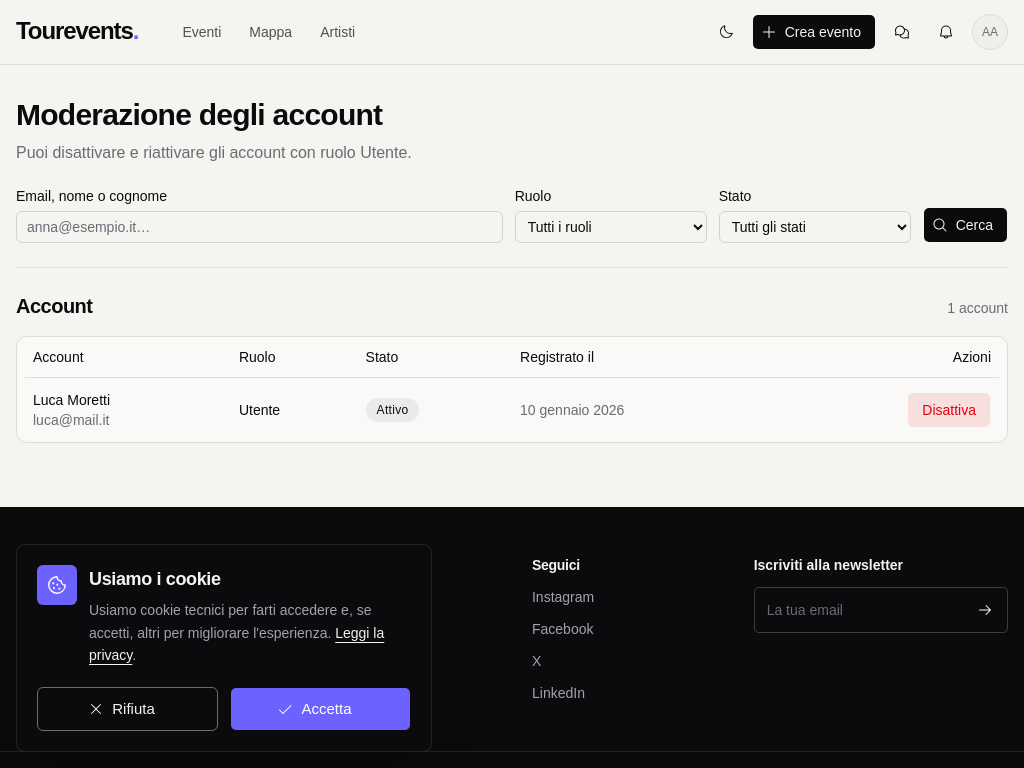
AdminUsersPage › disattiva con conferma e riattiva senza
The image size is (1024, 768).
Click the button with aria-label "Disattiva Luca Moretti" at x=949, y=410, box [907,392,991,428]
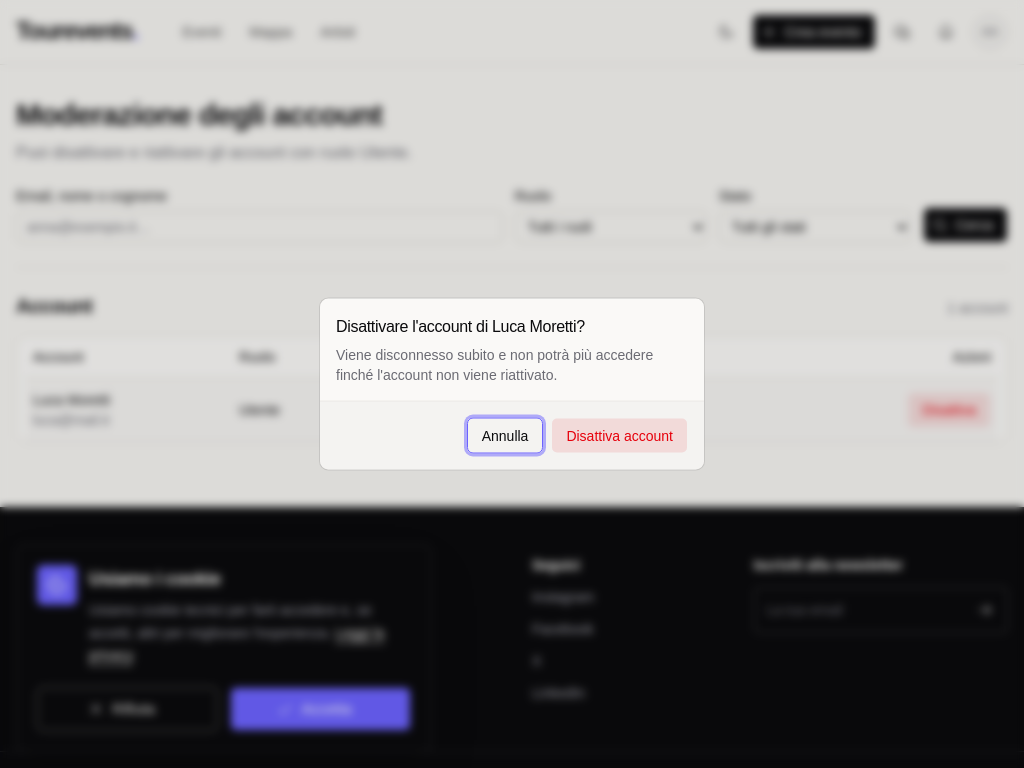
Result: the dialog shows "Disattivare l'account di Luca Moretti?" at [336,318,585,334]
Click the button "Disattiva account" at x=620, y=436, box [551,418,688,454]
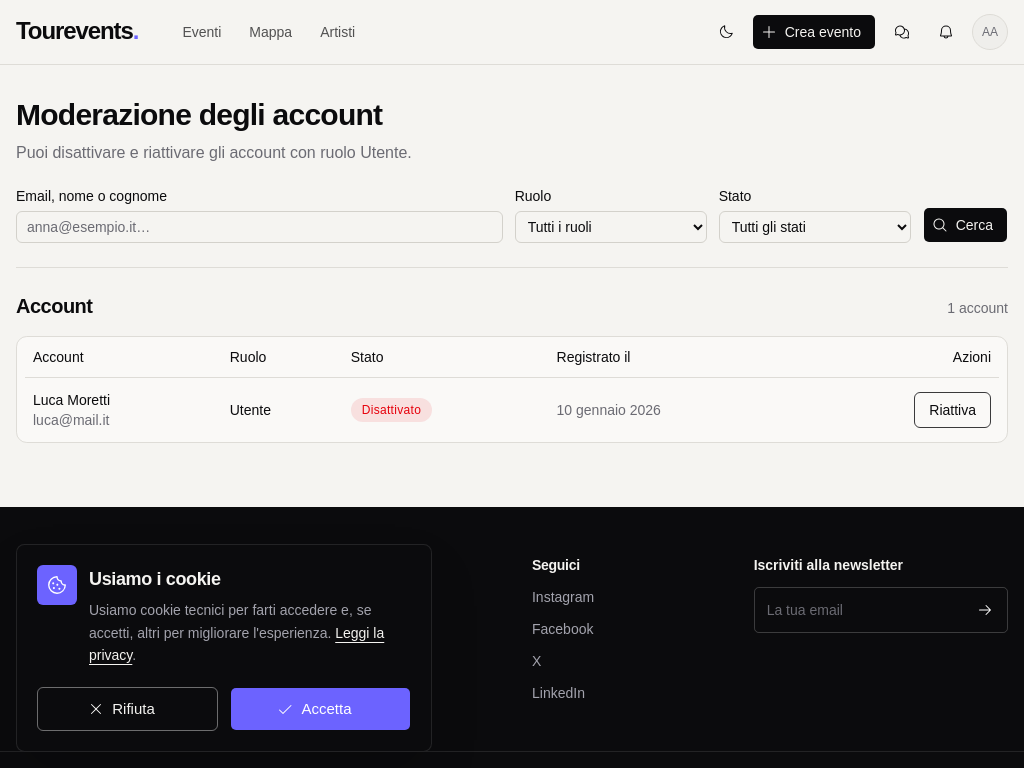
Click the button with aria-label "Riattiva Luca Moretti" at x=953, y=410, box [914,392,991,428]
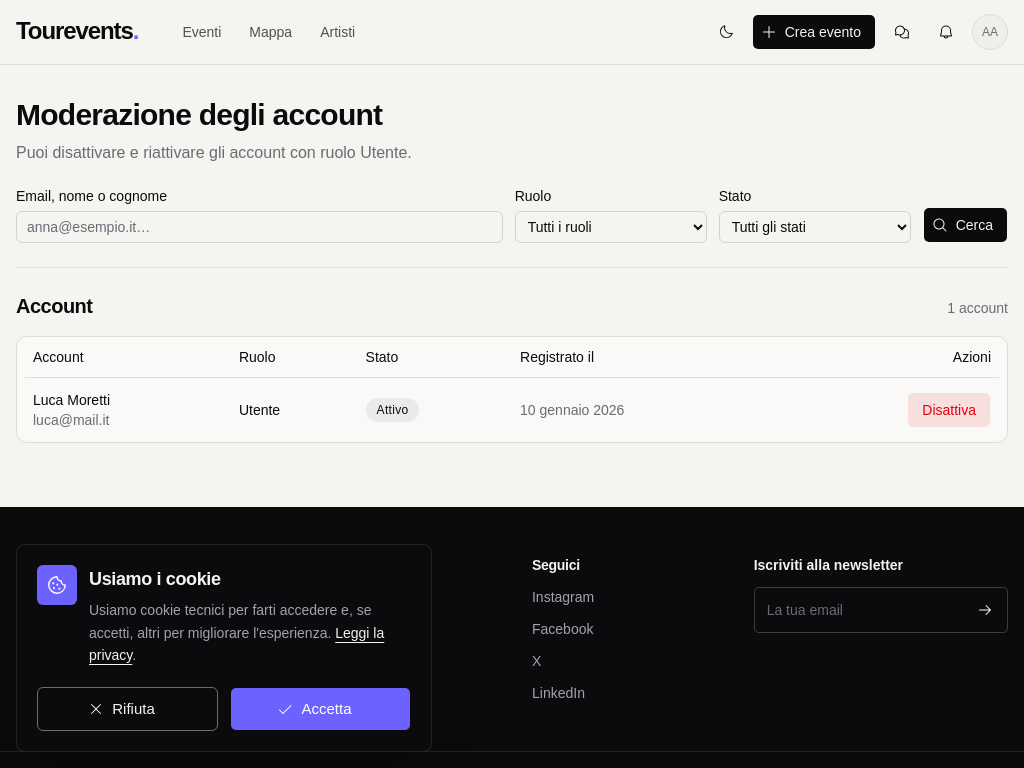
Result: the button with aria-label "Disattiva Luca Moretti" is shown at [907,392,991,428]
